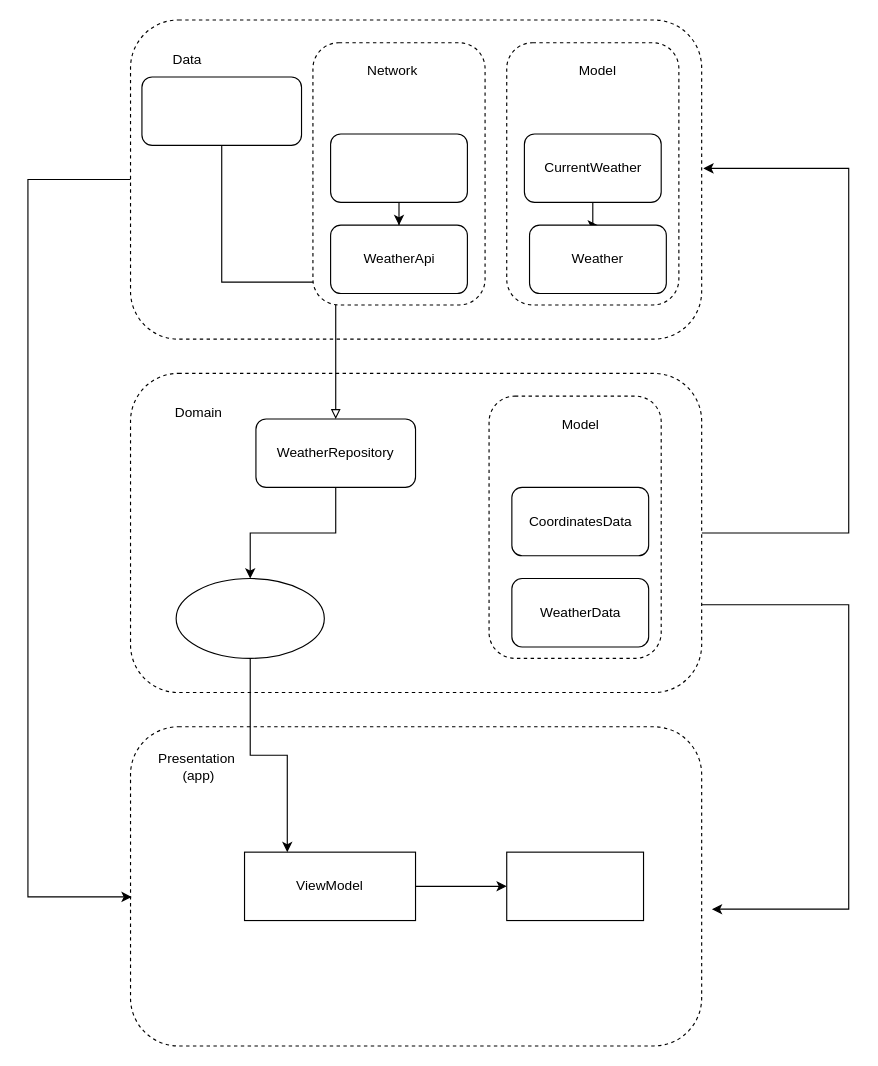
This 878x1066 diagram has some shape labels left out. Here are the shapes that lost their labels. From the top down, the centre of each, then its label:
(221,110): WeatherRepositoryImpl
(398,167): RetrofitClient
(249,617): GetWeatherUseCase
(575,886): Activity
